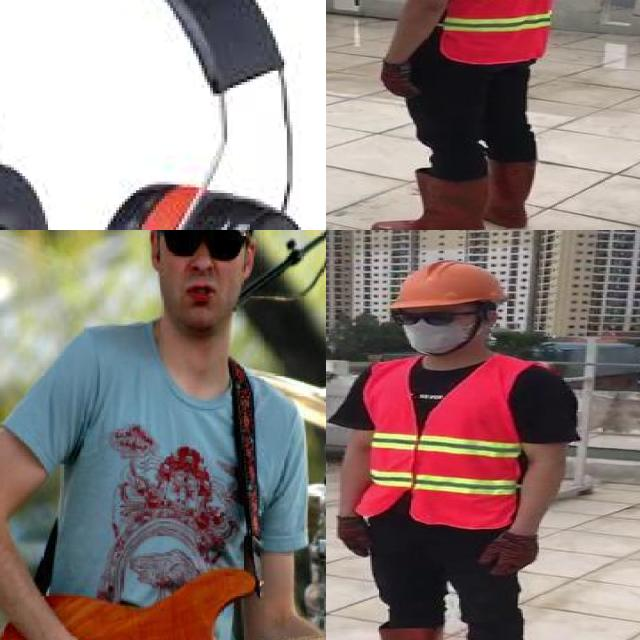Ear-protection: (0, 0, 326, 230)
boots: (370, 171, 487, 230), (458, 158, 536, 227)
face_mask: (392, 306, 474, 356)
face_nomask: (160, 230, 248, 314)
glasses: (157, 230, 254, 253), (382, 306, 471, 330)
hand_glove: (478, 532, 540, 577), (334, 515, 374, 558), (378, 61, 418, 99)
head_helmet: (385, 260, 501, 315)
person: (0, 230, 326, 640), (328, 252, 582, 640), (359, 0, 581, 230)
vest: (356, 355, 528, 525), (443, 0, 571, 66)
